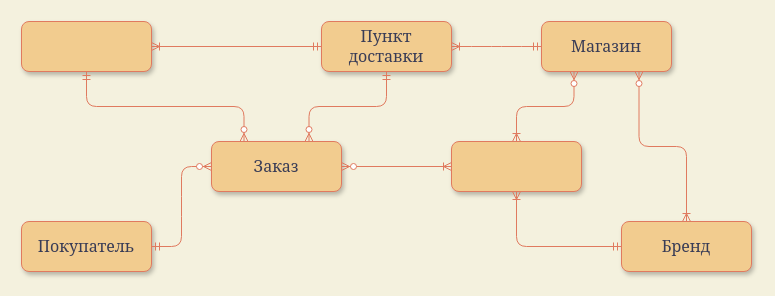
Some shapes in this 775 by 296 pixel diagram are drawn without their labels. The centre of each missing label's shape, as x and y in pixels:
Вещь: (517,167)
Сотрудник: (87,47)
